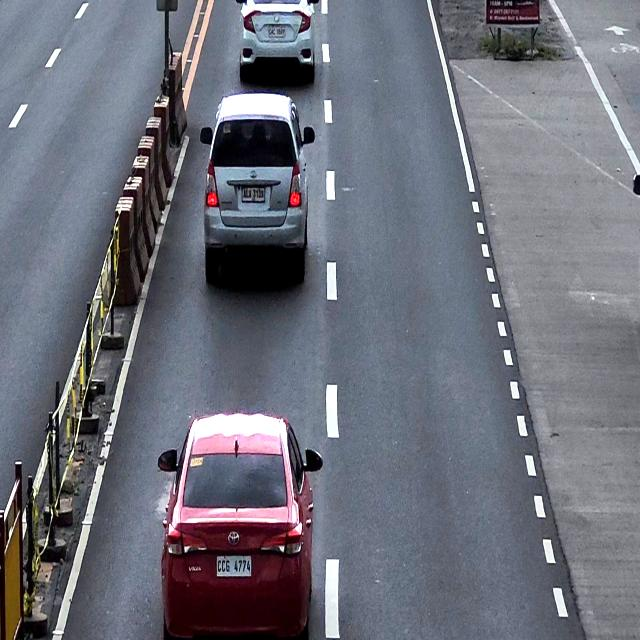Car: (157, 407, 323, 640), (200, 93, 316, 282), (235, 0, 319, 86)
License-Plate: (216, 554, 252, 578), (242, 186, 266, 202), (266, 23, 286, 38)
